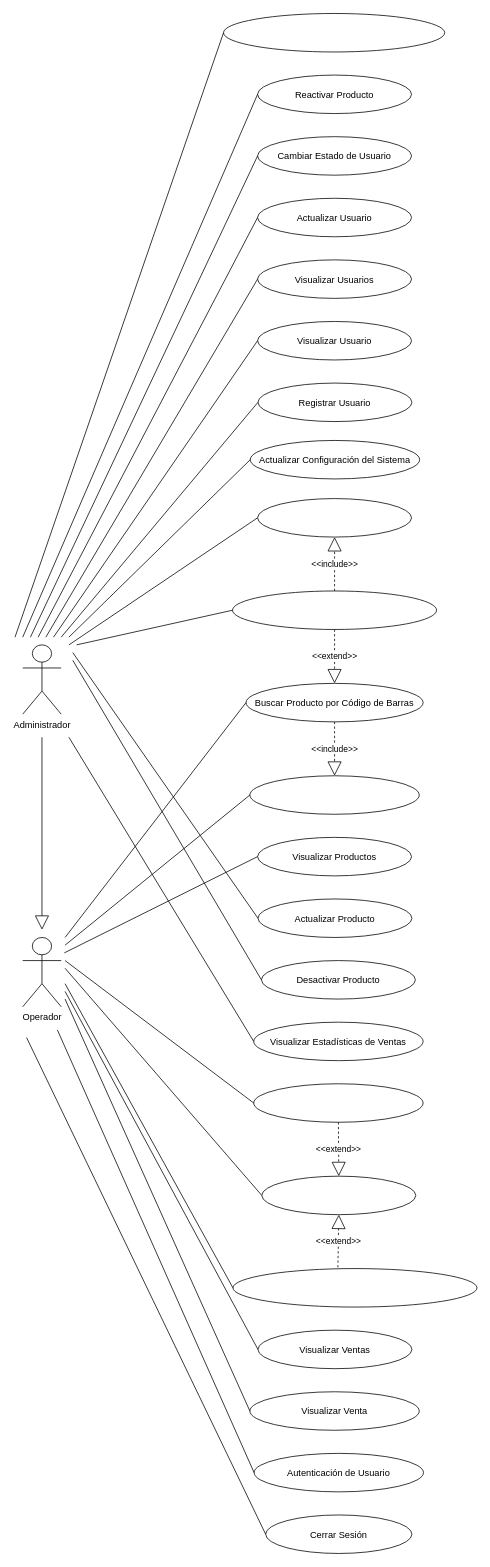
This 490x1567 diagram has some shape labels left out. The box of each missing label's shape, as (x1, y1, x2, y2) in pixels:
Agregar Producto a la Venta mediante Código de Barras: (232, 1268, 477, 1307)
Generar Comprobante de Venta: (253, 1083, 423, 1122)
Generar Reporte de Estadísticas de Ventas (PDF): (223, 13, 445, 52)
Registrar Producto: (257, 498, 412, 537)
Registrar Producto mediante Código de Barras: (232, 590, 437, 629)
Registrar Venta: (261, 1175, 416, 1215)
Visualizar Producto: (249, 775, 419, 814)
